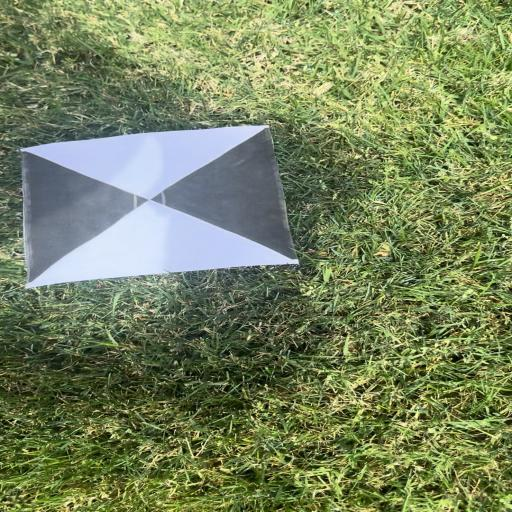target: (24, 123, 300, 289)
